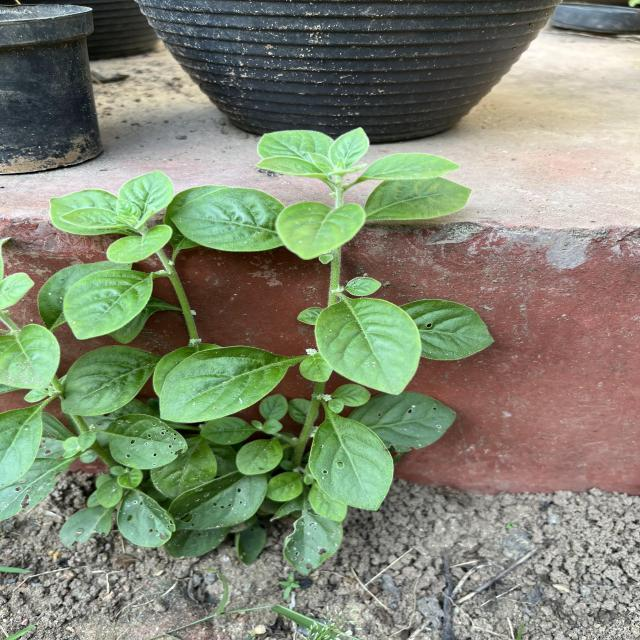Aerva lanata: (310, 295, 424, 398), (156, 344, 298, 426), (166, 185, 286, 254), (58, 342, 160, 418), (60, 266, 159, 342), (355, 151, 463, 182), (115, 167, 177, 216), (255, 128, 336, 162)
